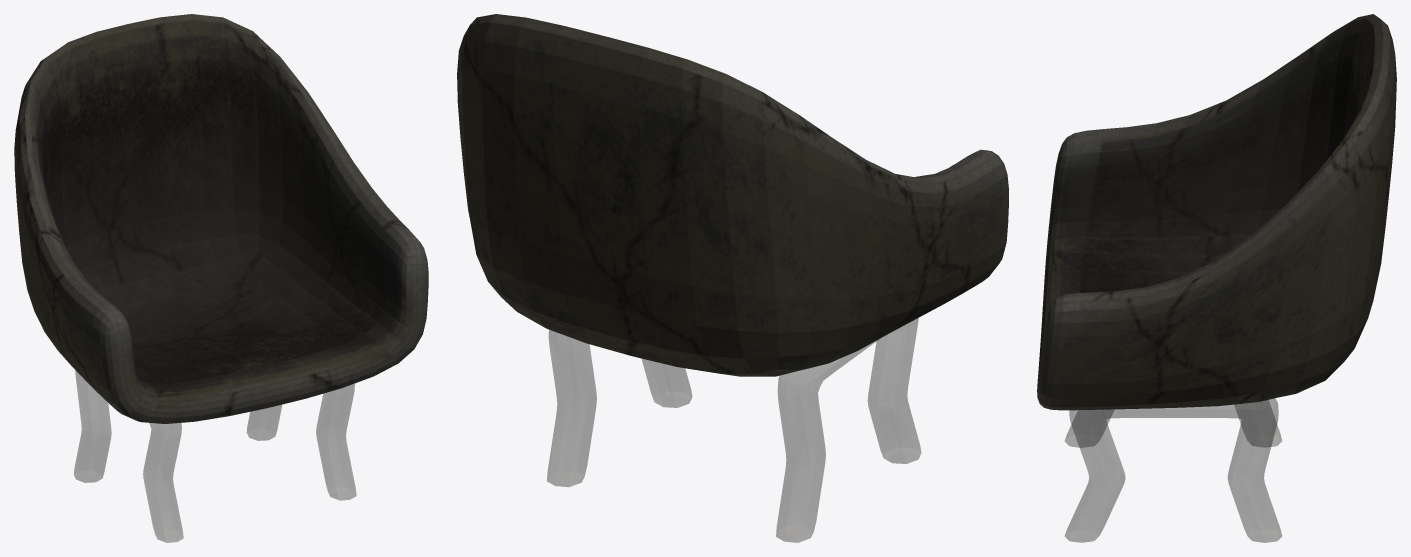
Rendered from Ext_Silla_V1.glb.
The picture shows the model from 3 angles, left to right: view 1: azimuth 30°, elevation 25°; view 2: azimuth 150°, elevation 25°; view 3: azimuth 270°, elevation 25°; orthographic projection. The views are drawn at different scales.
Visible parts, largest first — view 1: Base_Silla_V1., Patas_Silla_V1; view 2: Base_Silla_V1., Patas_Silla_V1; view 3: Base_Silla_V1., Patas_Silla_V1.
Part boxes in pixels (<box>): Base_Silla_V1.: <box>14,14,428,423</box>; Patas_Silla_V1: <box>74,370,356,542</box>; Base_Silla_V1.: <box>457,14,1008,376</box>; Patas_Silla_V1: <box>547,318,921,542</box>; Base_Silla_V1.: <box>1037,14,1396,410</box>; Patas_Silla_V1: <box>1065,398,1281,542</box>.
Size of the model in its own units: 0.9491 by 1.09 by 0.8032.
2 materials, 2 textured.
